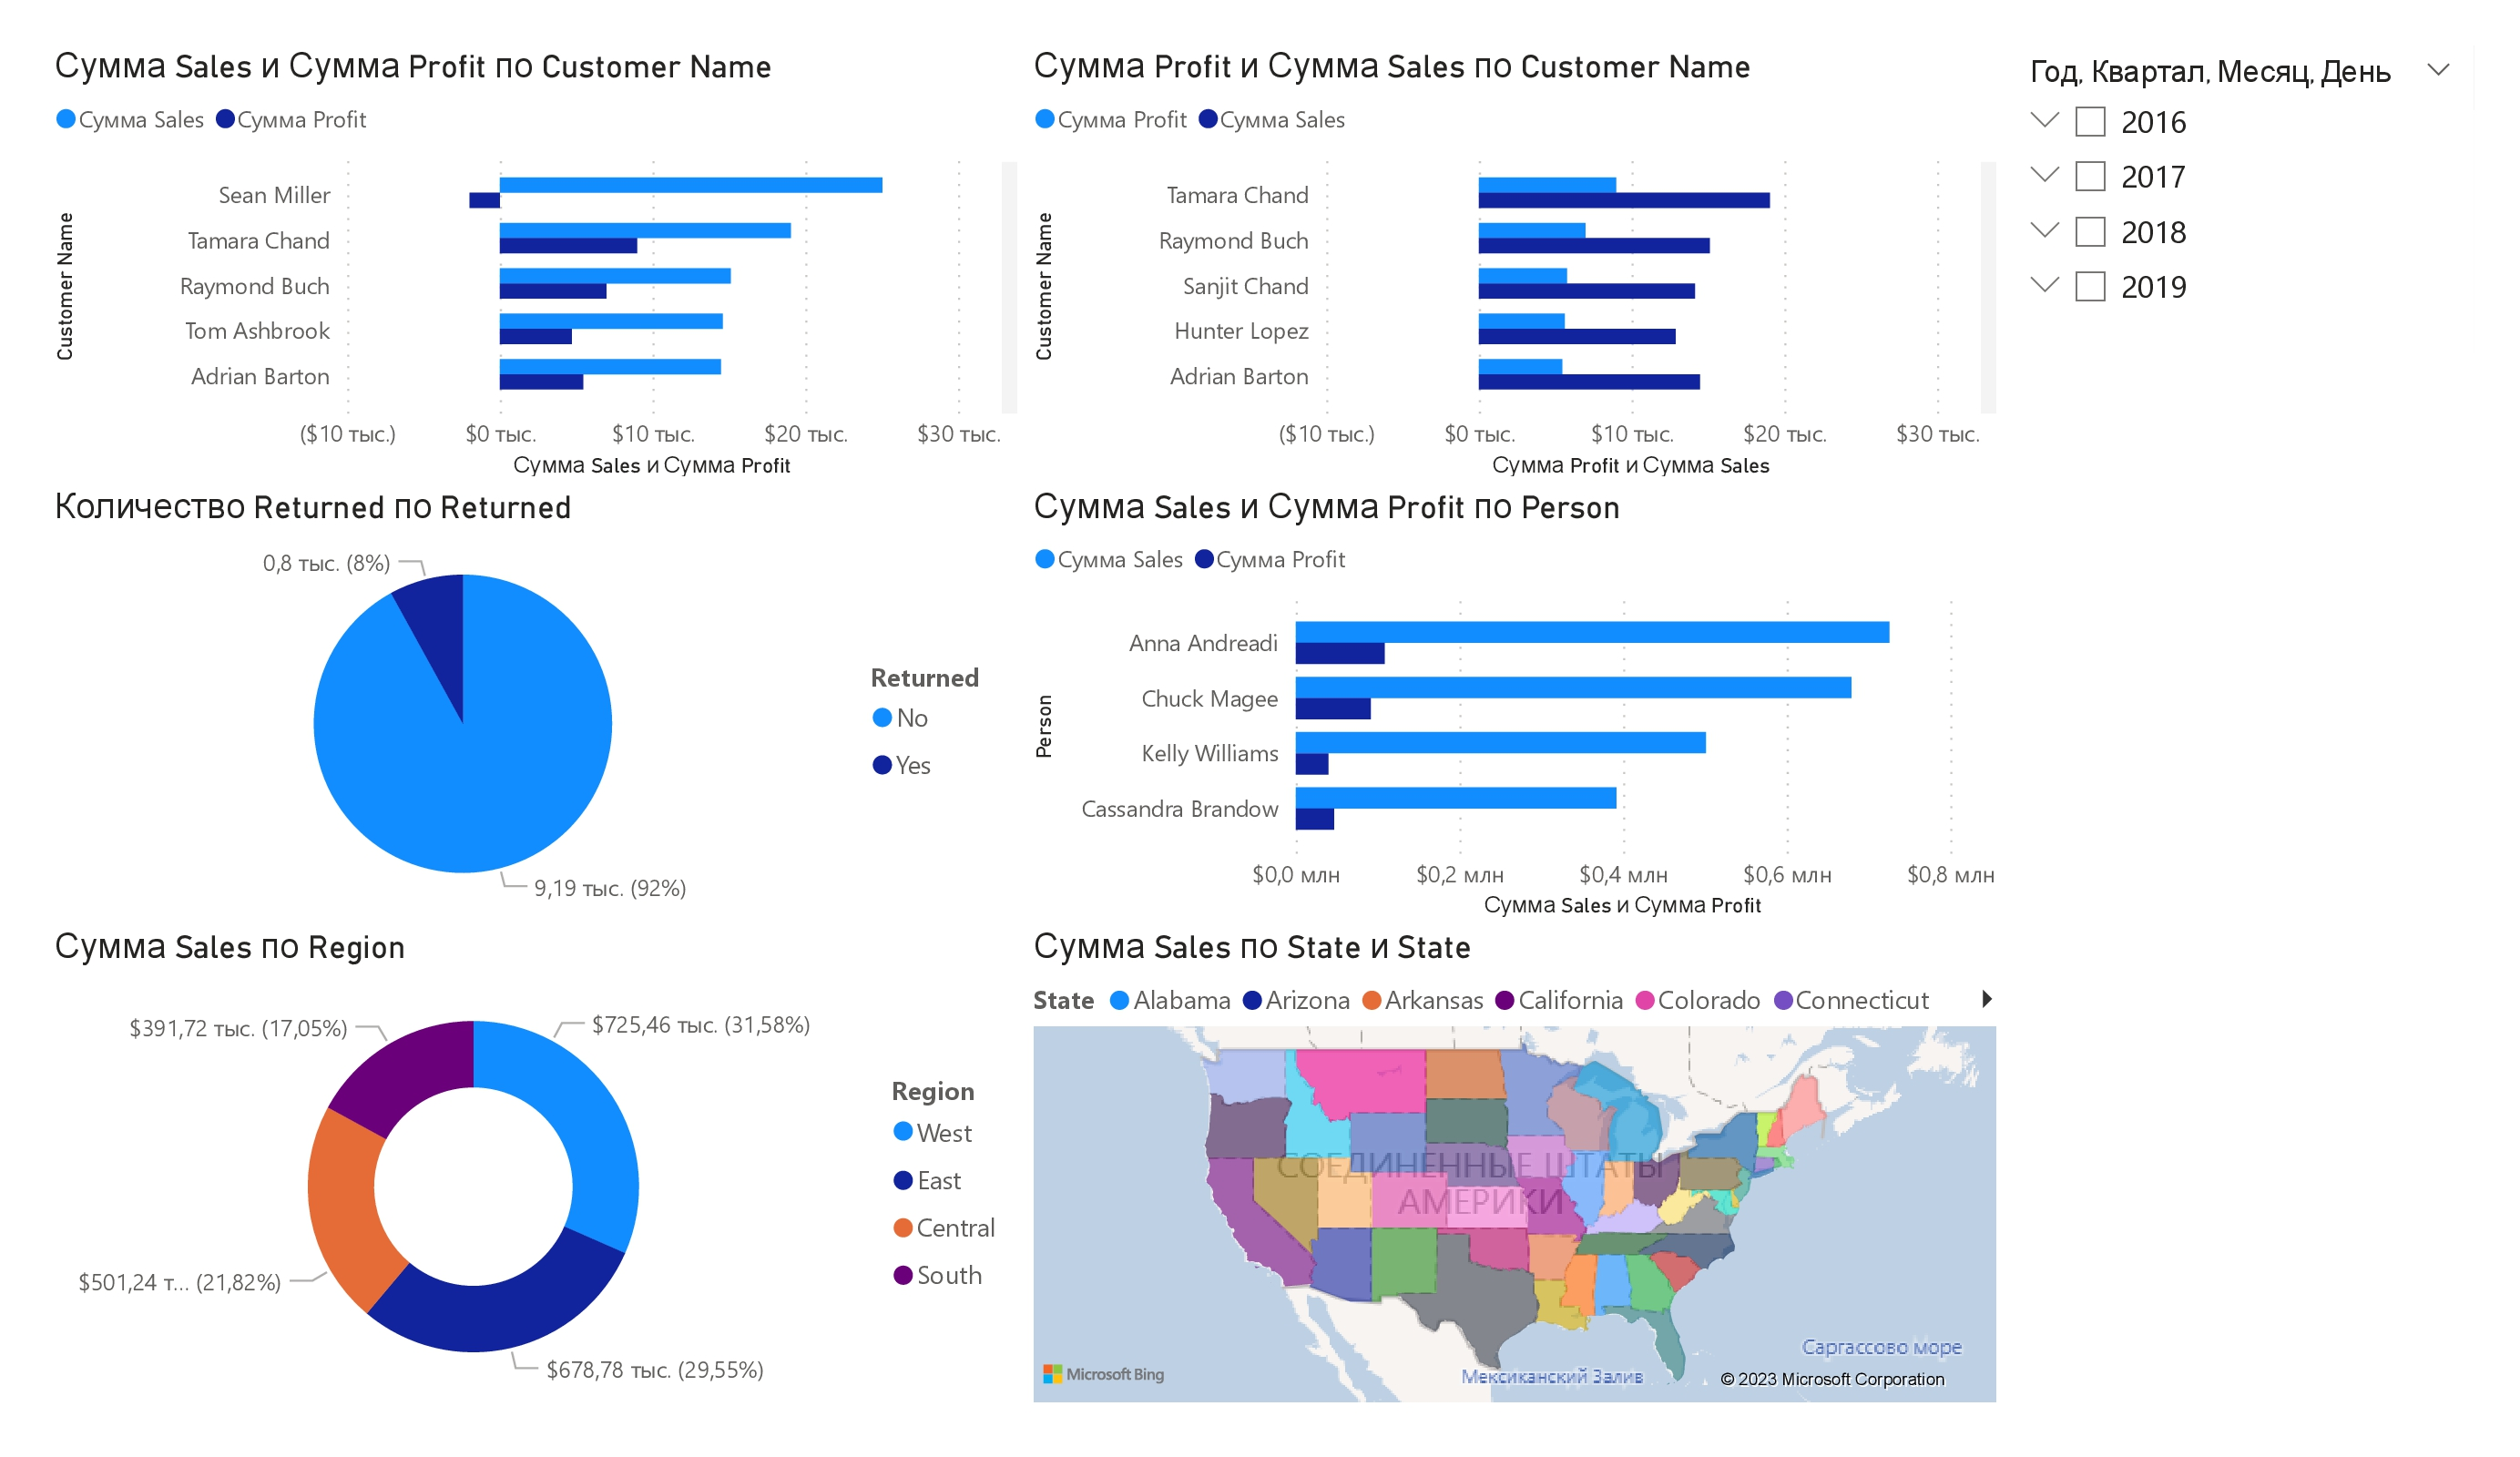

Layout of this report page (visuals, bound fields, positions):
{"tool":"powerbi","page":{"name":"Customer Analysis","canvas":[1280,720],"ordinal":2},"visuals":[{"type":"clusteredBarChart","fields":{"Category":["Orders2.Customer Name"],"Y":["Sum(Orders2.Sales)","Sum(Orders2.Profit)"]},"box":[0,0,517,232],"z":0},{"type":"slicer","fields":{"Values":["Orders2.Order Date.Изменение.Иерархия дат.Год","Orders2.Order Date.Изменение.Иерархия дат.Квартал","Orders2.Order Date.Изменение.Иерархия дат.Месяц","Orders2.Order Date.Изменение.Иерархия дат.День"]},"box":[1033,0,247,244],"z":1000},{"type":"clusteredBarChart","fields":{"Category":["Orders2.Customer Name"],"Y":["Sum(Orders2.Profit)","Sum(Orders2.Sales)"]},"box":[516,0,517,232],"z":2000},{"type":"donutChart","fields":{"Category":["Orders2.Region"],"Y":["Sum(Orders2.Sales)"]},"box":[0,464,516,256],"z":3000},{"type":"pieChart","fields":{"Y":["CountNonNull(Orders2.Returned)"],"Category":["Orders2.Returned"]},"box":[0,232,516,232],"z":4000},{"type":"filledMap","fields":{"Category":["Orders2.State"],"Series":["Orders2.State"]},"box":[516,464,517,256],"z":5000},{"type":"clusteredBarChart","fields":{"Y":["Sum(Orders2.Sales)","Sum(Orders2.Profit)"],"Category":["Orders2.Person"]},"box":[516,232,517,232],"z":5001}]}

Visuals, with their boxes on the page's 1280x720 design canvas (x1, y1, x2, y2). These are canvas units, not pixel positions in the 2520x1457 screenshot, which may show the page scaled, cropped or inside an application window:
clusteredBarChart - Orders2.Customer Name x Sum(Orders2.Sales): locate(0, 0, 517, 232)
slicer - Orders2.Order Date.Изменение.Иерархия дат.Год x Orders2.Order Date.Изменение.Иерархия дат.Квартал: locate(1033, 0, 1280, 244)
clusteredBarChart - Orders2.Customer Name x Sum(Orders2.Profit): locate(516, 0, 1033, 232)
donutChart - Orders2.Region x Sum(Orders2.Sales): locate(0, 464, 516, 720)
pieChart - CountNonNull(Orders2.Returned) x Orders2.Returned: locate(0, 232, 516, 464)
filledMap - Orders2.State x Orders2.State: locate(516, 464, 1033, 720)
clusteredBarChart - Sum(Orders2.Sales) x Sum(Orders2.Profit): locate(516, 232, 1033, 464)
